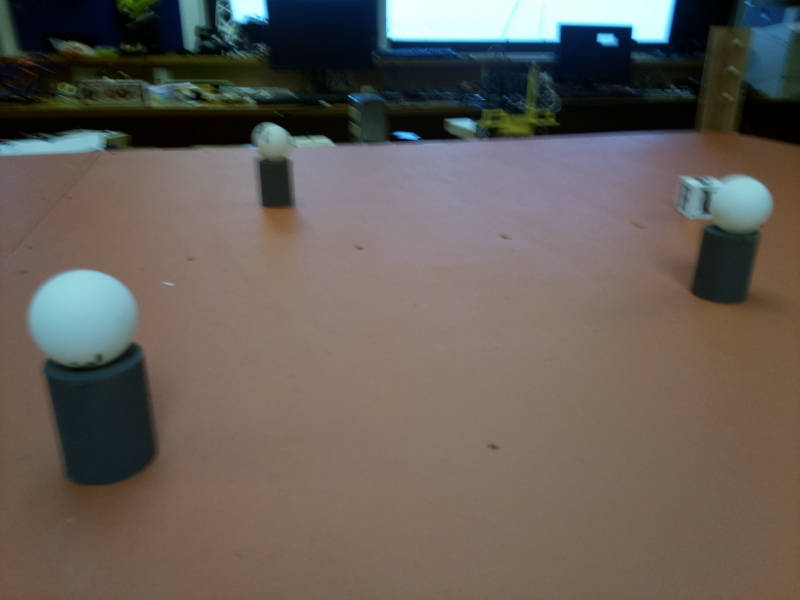corner: (697, 29, 753, 126)
obstacle: (47, 268, 153, 475), (699, 175, 775, 303), (259, 120, 294, 206)
